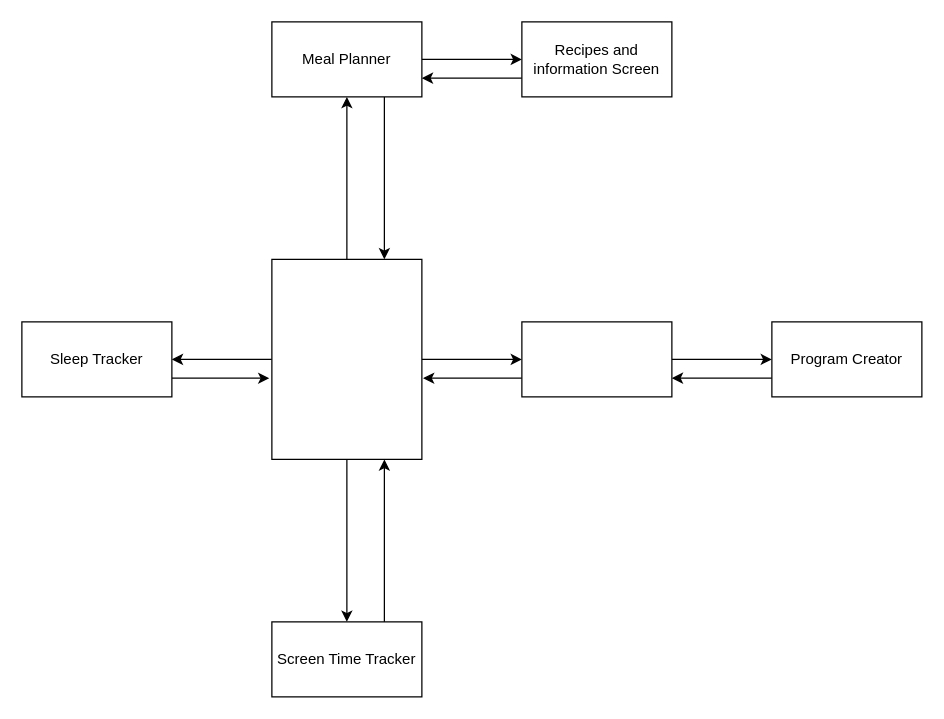
Some shapes in this 944 by 719 pixel diagram are drawn without their labels. Each missing label, with the centre of its shape:
Exercise Tracker: (596,359)
Home Page: (346,358)
